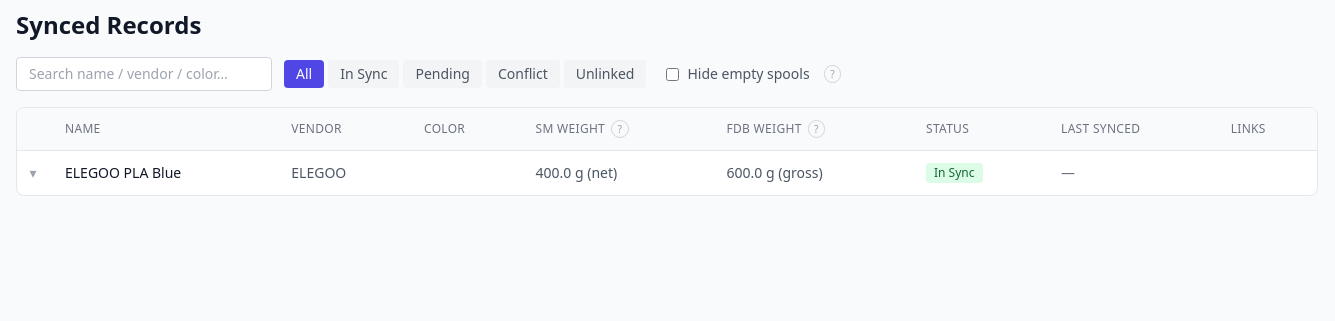
Scenario: SyncedRecords — Unlink action › shows Unlink button in expanded spool row detail
Click the text "ELEGOO PLA Blue" at (162, 172), box [49, 150, 275, 195]
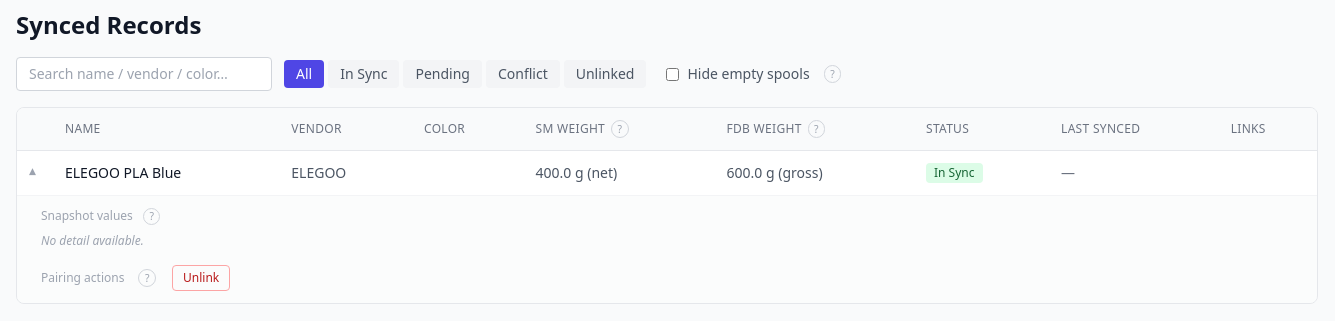
Now the button "Unlink" is shown, box [172, 265, 230, 291]
